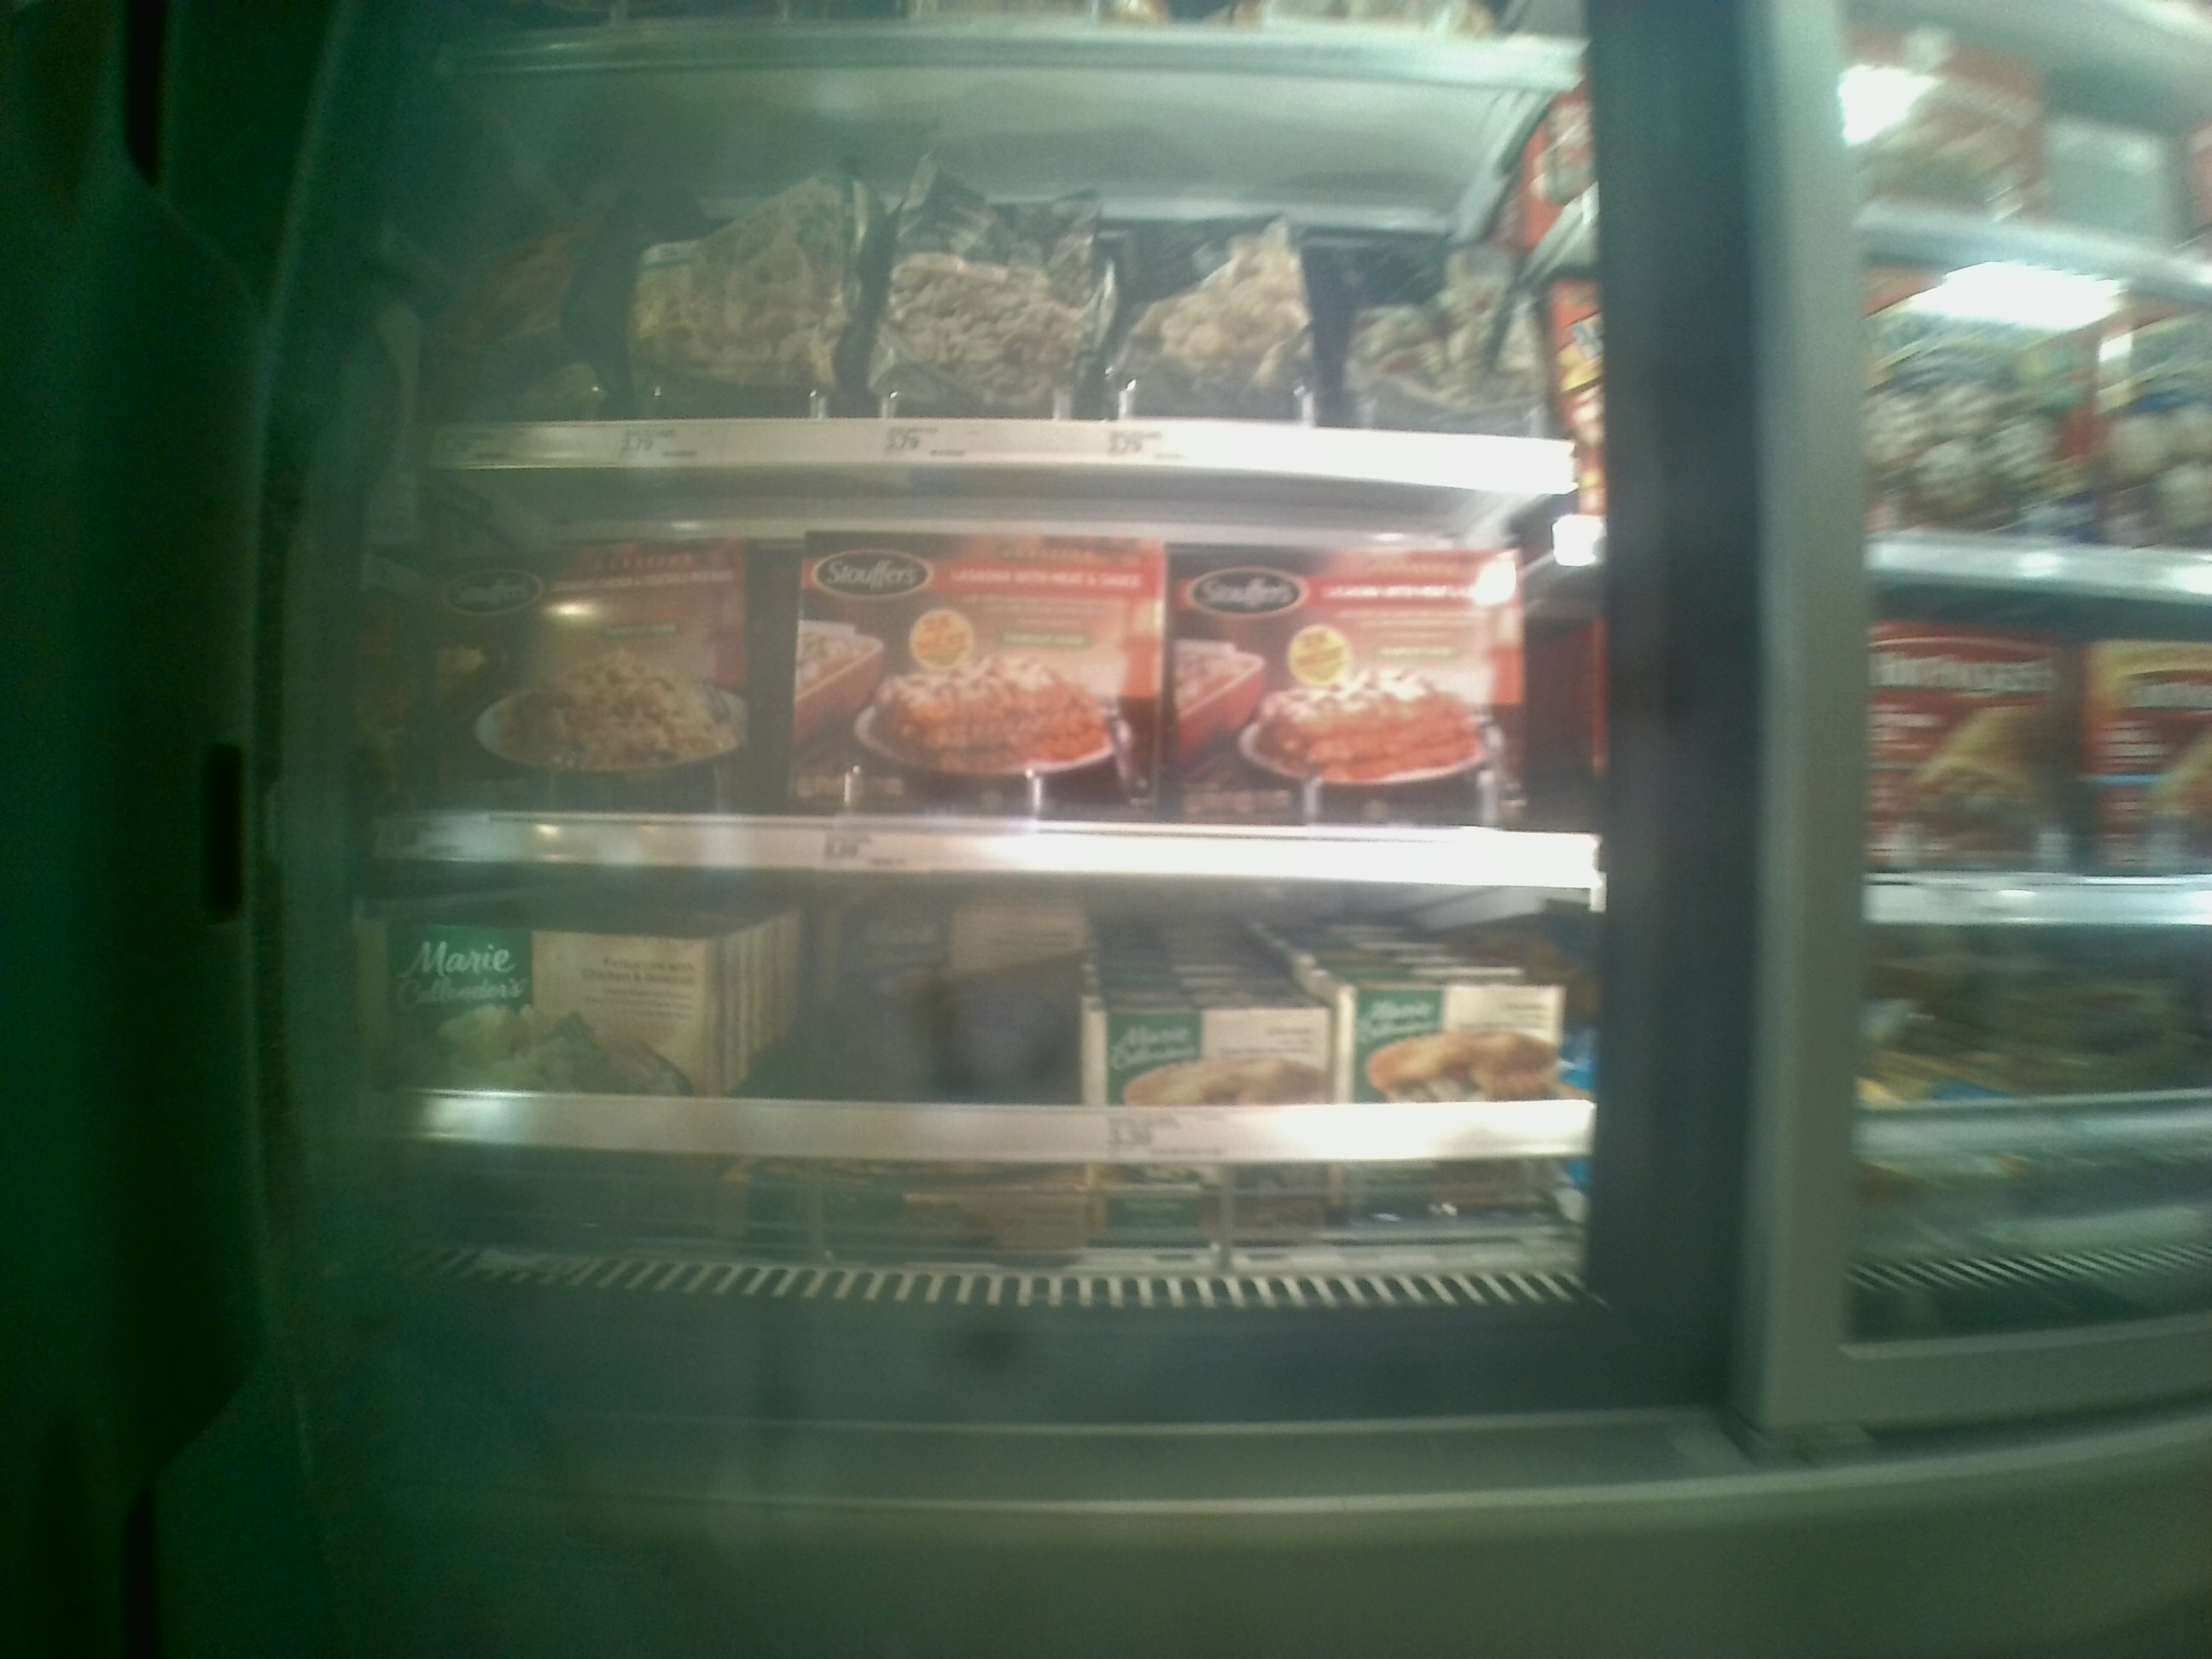frozen-food-shelf: (357, 484, 1597, 897), (408, 73, 1581, 486), (387, 866, 1575, 1161)
